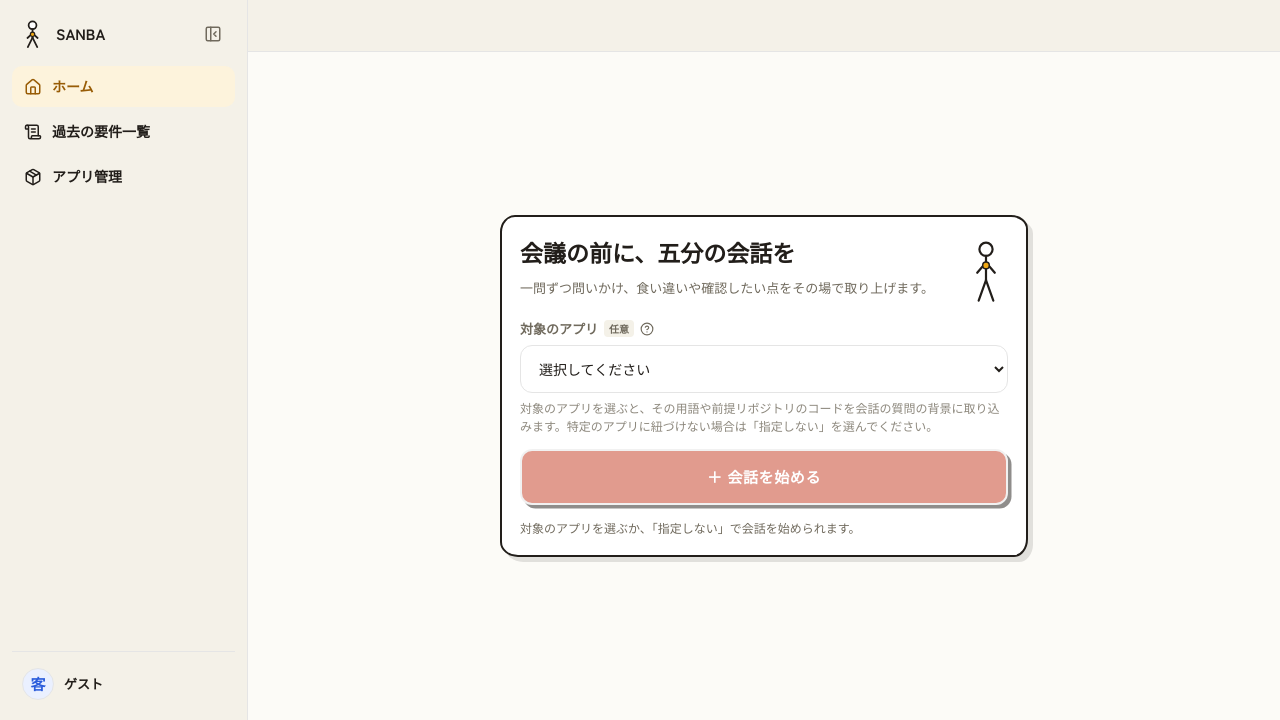
入口フロー（#140） › アプリ未選択の間は CTA が無効で、選択すると活性化する（ADR-0044）
This screenshot has width=1280, height=720.
Expected: the button "＋ 会話を始める" is disabled, [520,448,1008,505]
Expected: the text "対象のアプリを選ぶか、「指定しない」で会話を始められます。" is shown, [520,519,861,536]
Step 1. Select "検索アプリ" in the dropdown labelled "対象のアプリ" → (764, 368), box [520,344,1008,392]
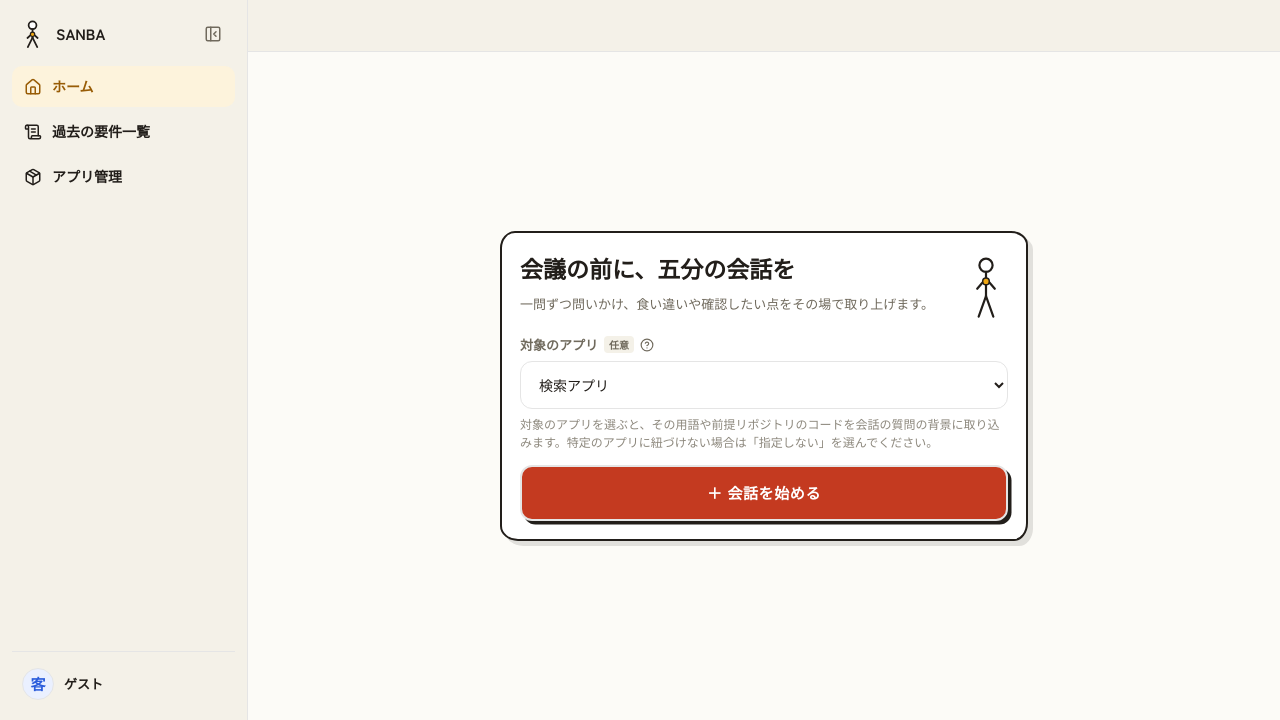
Now the button "＋ 会話を始める" is enabled, box [520,464,1008,521]
Now the text "対象のアプリを選ぶか、「指定しない」で会話を始められます。" is gone
